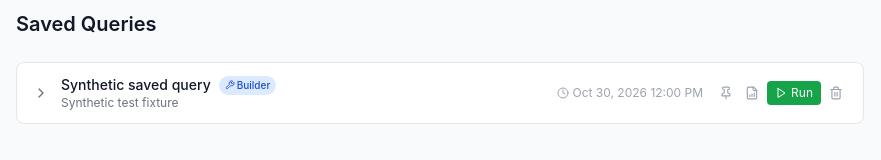
Test case: SavedQueries Save as Report state › shows that the report already exists when the promote response is 200
Step 1. Click the button titled "Save as Report" → (752, 93), box [741,81,763,105]
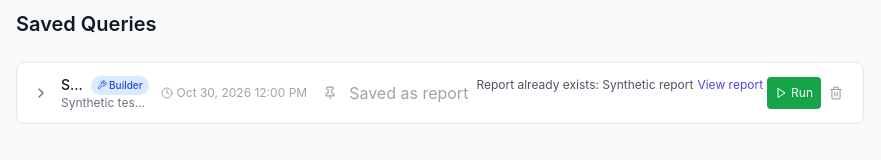
Now the text "Report already exists: Synthetic report" is shown, box [476,77,693,92]
Now the button "Saved as report" is disabled, box [345,77,472,109]
